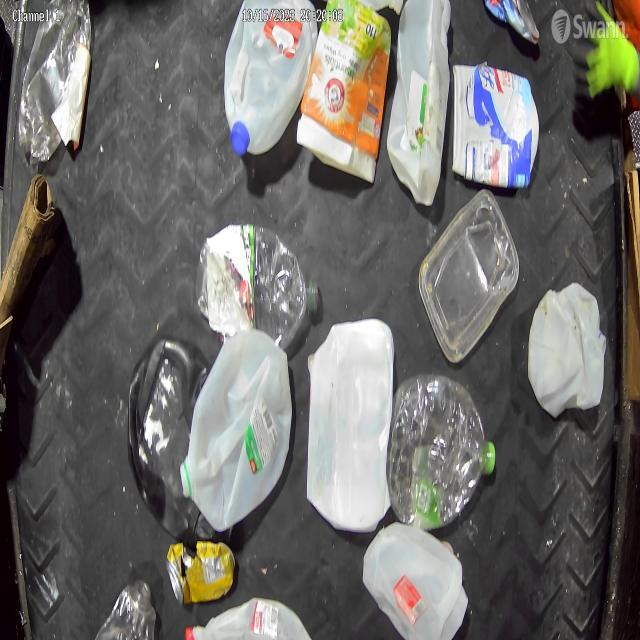can: (165, 529, 237, 609)
milk_jug: (179, 329, 293, 532), (304, 311, 396, 531), (377, 2, 463, 208), (222, 0, 320, 162), (365, 522, 470, 640), (528, 280, 606, 430), (185, 594, 308, 640)
non_white_jug: (122, 330, 215, 530)
plastic_bottle: (386, 373, 498, 532), (198, 221, 312, 361)
